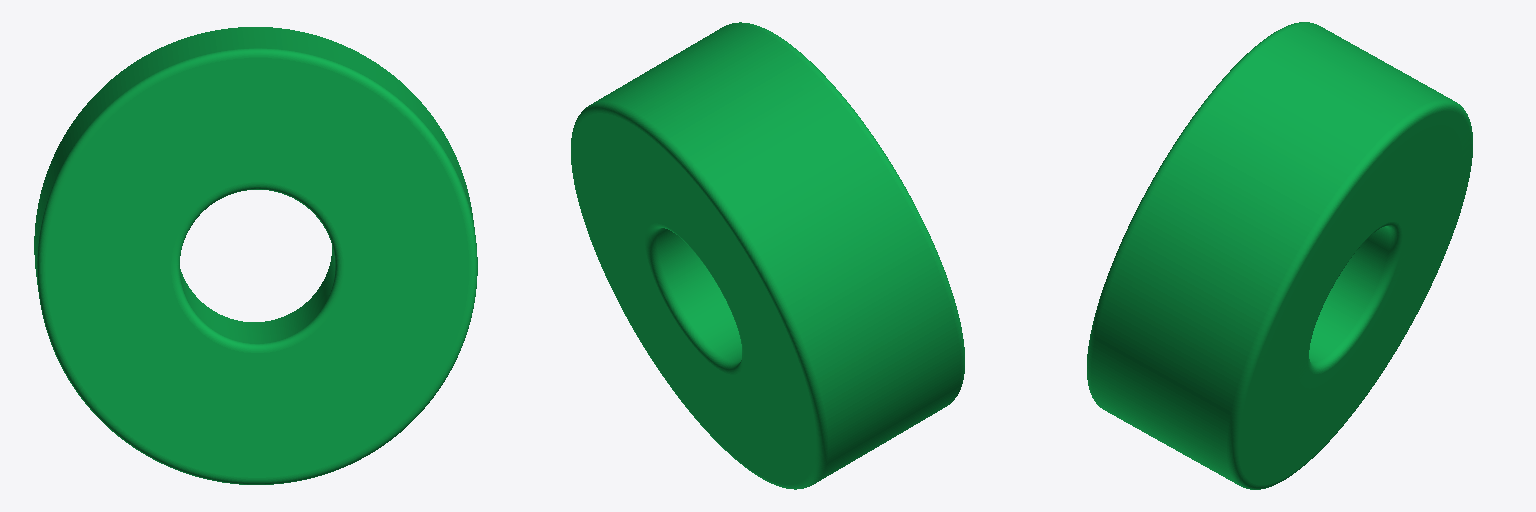
The model's file is Cylinder_Consulting.obj.
3 views of the same model, side by side, from view 1: azimuth 30°, elevation 25°; view 2: azimuth 150°, elevation 25°; view 3: azimuth 270°, elevation 25° (orthographic).
Visible parts, largest first — view 1: Circle003; view 2: Circle003; view 3: Circle003.
Boxes of the visible parts, x1,y1,x2,y2 form: Circle003: [34, 27, 477, 484]; Circle003: [571, 22, 964, 489]; Circle003: [1087, 22, 1472, 489].
Size of the model in its own units: 49.82 by 50.02 by 41.12.